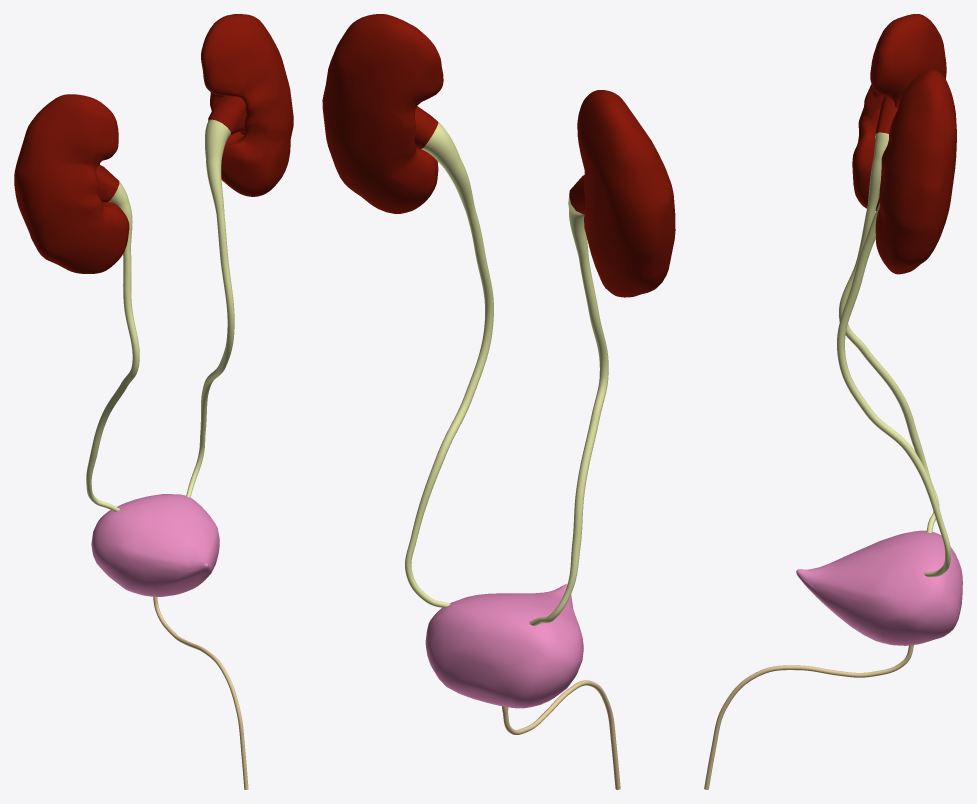
File: Excretory_System.glb
The picture shows the model from 3 angles, left to right: view 1: azimuth 30°, elevation 25°; view 2: azimuth 150°, elevation 25°; view 3: azimuth 270°, elevation 25°; orthographic projection. The views are drawn at different scales.
Visible parts, largest first — view 1: Kidney.l, Urinary bladder, Ureter.r.001, Urethra.001; view 2: Kidney.l, Urinary bladder, Ureter.r.001, Urethra.001; view 3: Kidney.l, Urinary bladder, Ureter.r.001, Urethra.001.
Boxes of the visible parts, x1,y1,x2,y2 form: Kidney.l: (14,14,293,273); Urinary bladder: (91,494,219,596); Ureter.r.001: (86,119,234,511); Urethra.001: (153,597,248,789); Kidney.l: (322,14,675,297); Urinary bladder: (425,584,583,708); Ureter.r.001: (405,122,608,625); Urethra.001: (502,680,620,789); Kidney.l: (852,14,956,274); Urinary bladder: (796,530,962,645); Ureter.r.001: (837,132,950,576); Urethra.001: (704,645,913,789).
Bounding box in the file's own units: 0.178 × 0.4203 × 0.1293.
